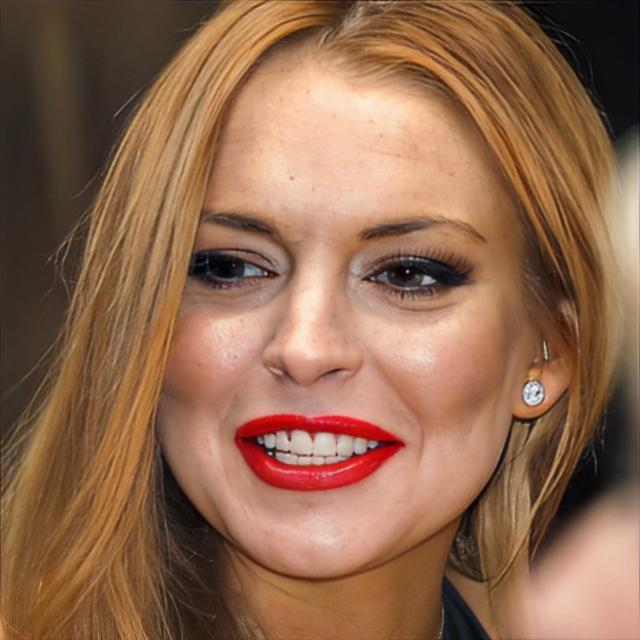happy: (150, 42, 527, 582)
